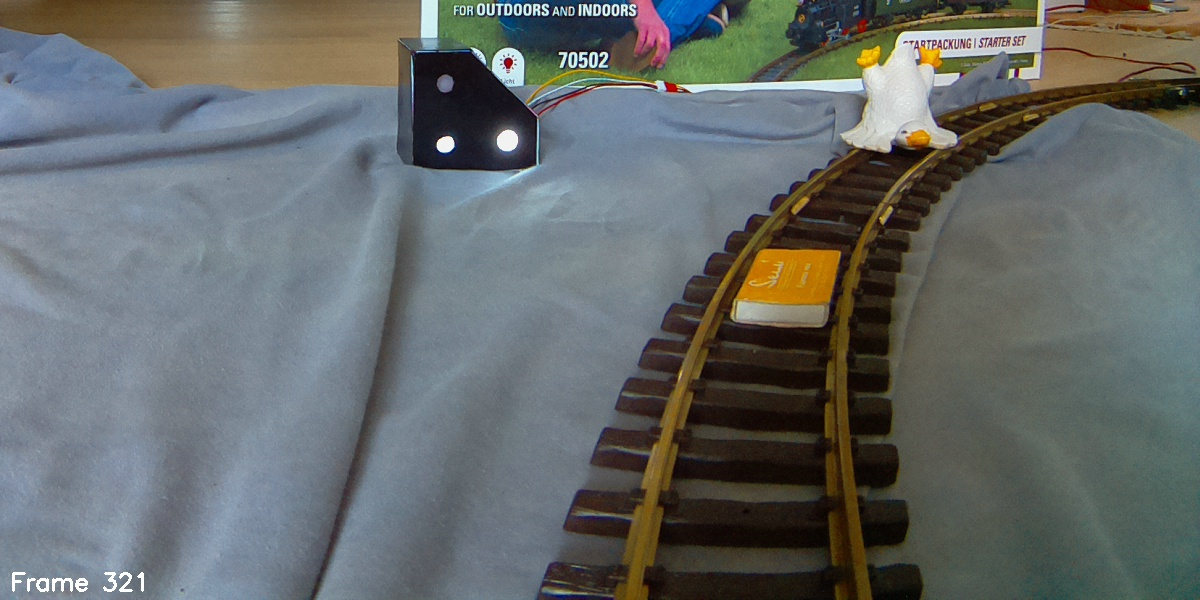Halt: (398, 39, 537, 172)
